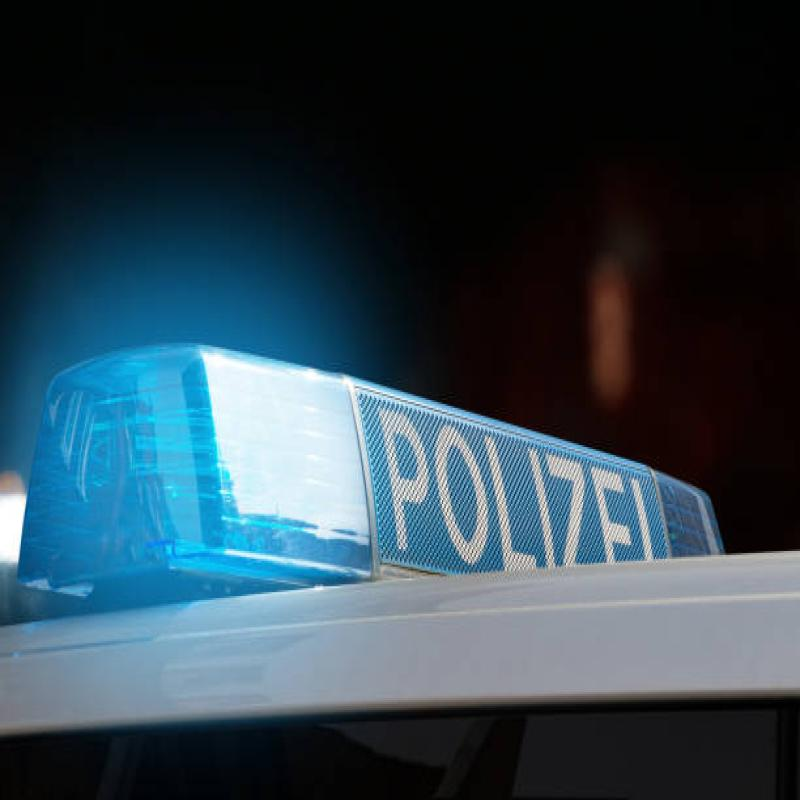AmbulanceSiren: (15, 321, 800, 662)
